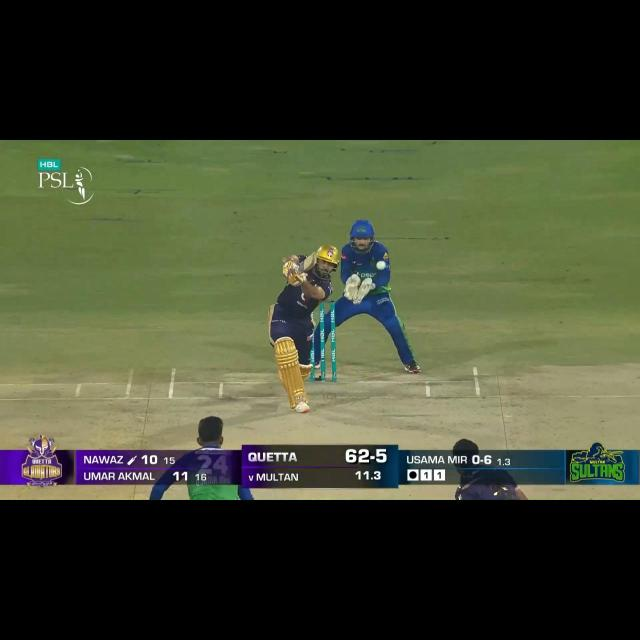bat: (294, 253, 318, 270)
toe: (312, 253, 316, 265)
